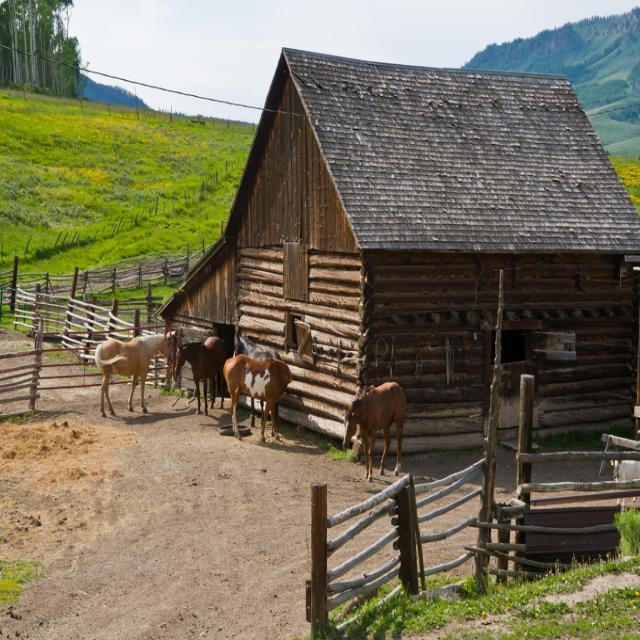Horse: (95, 332, 406, 483), (609, 456, 640, 508)
